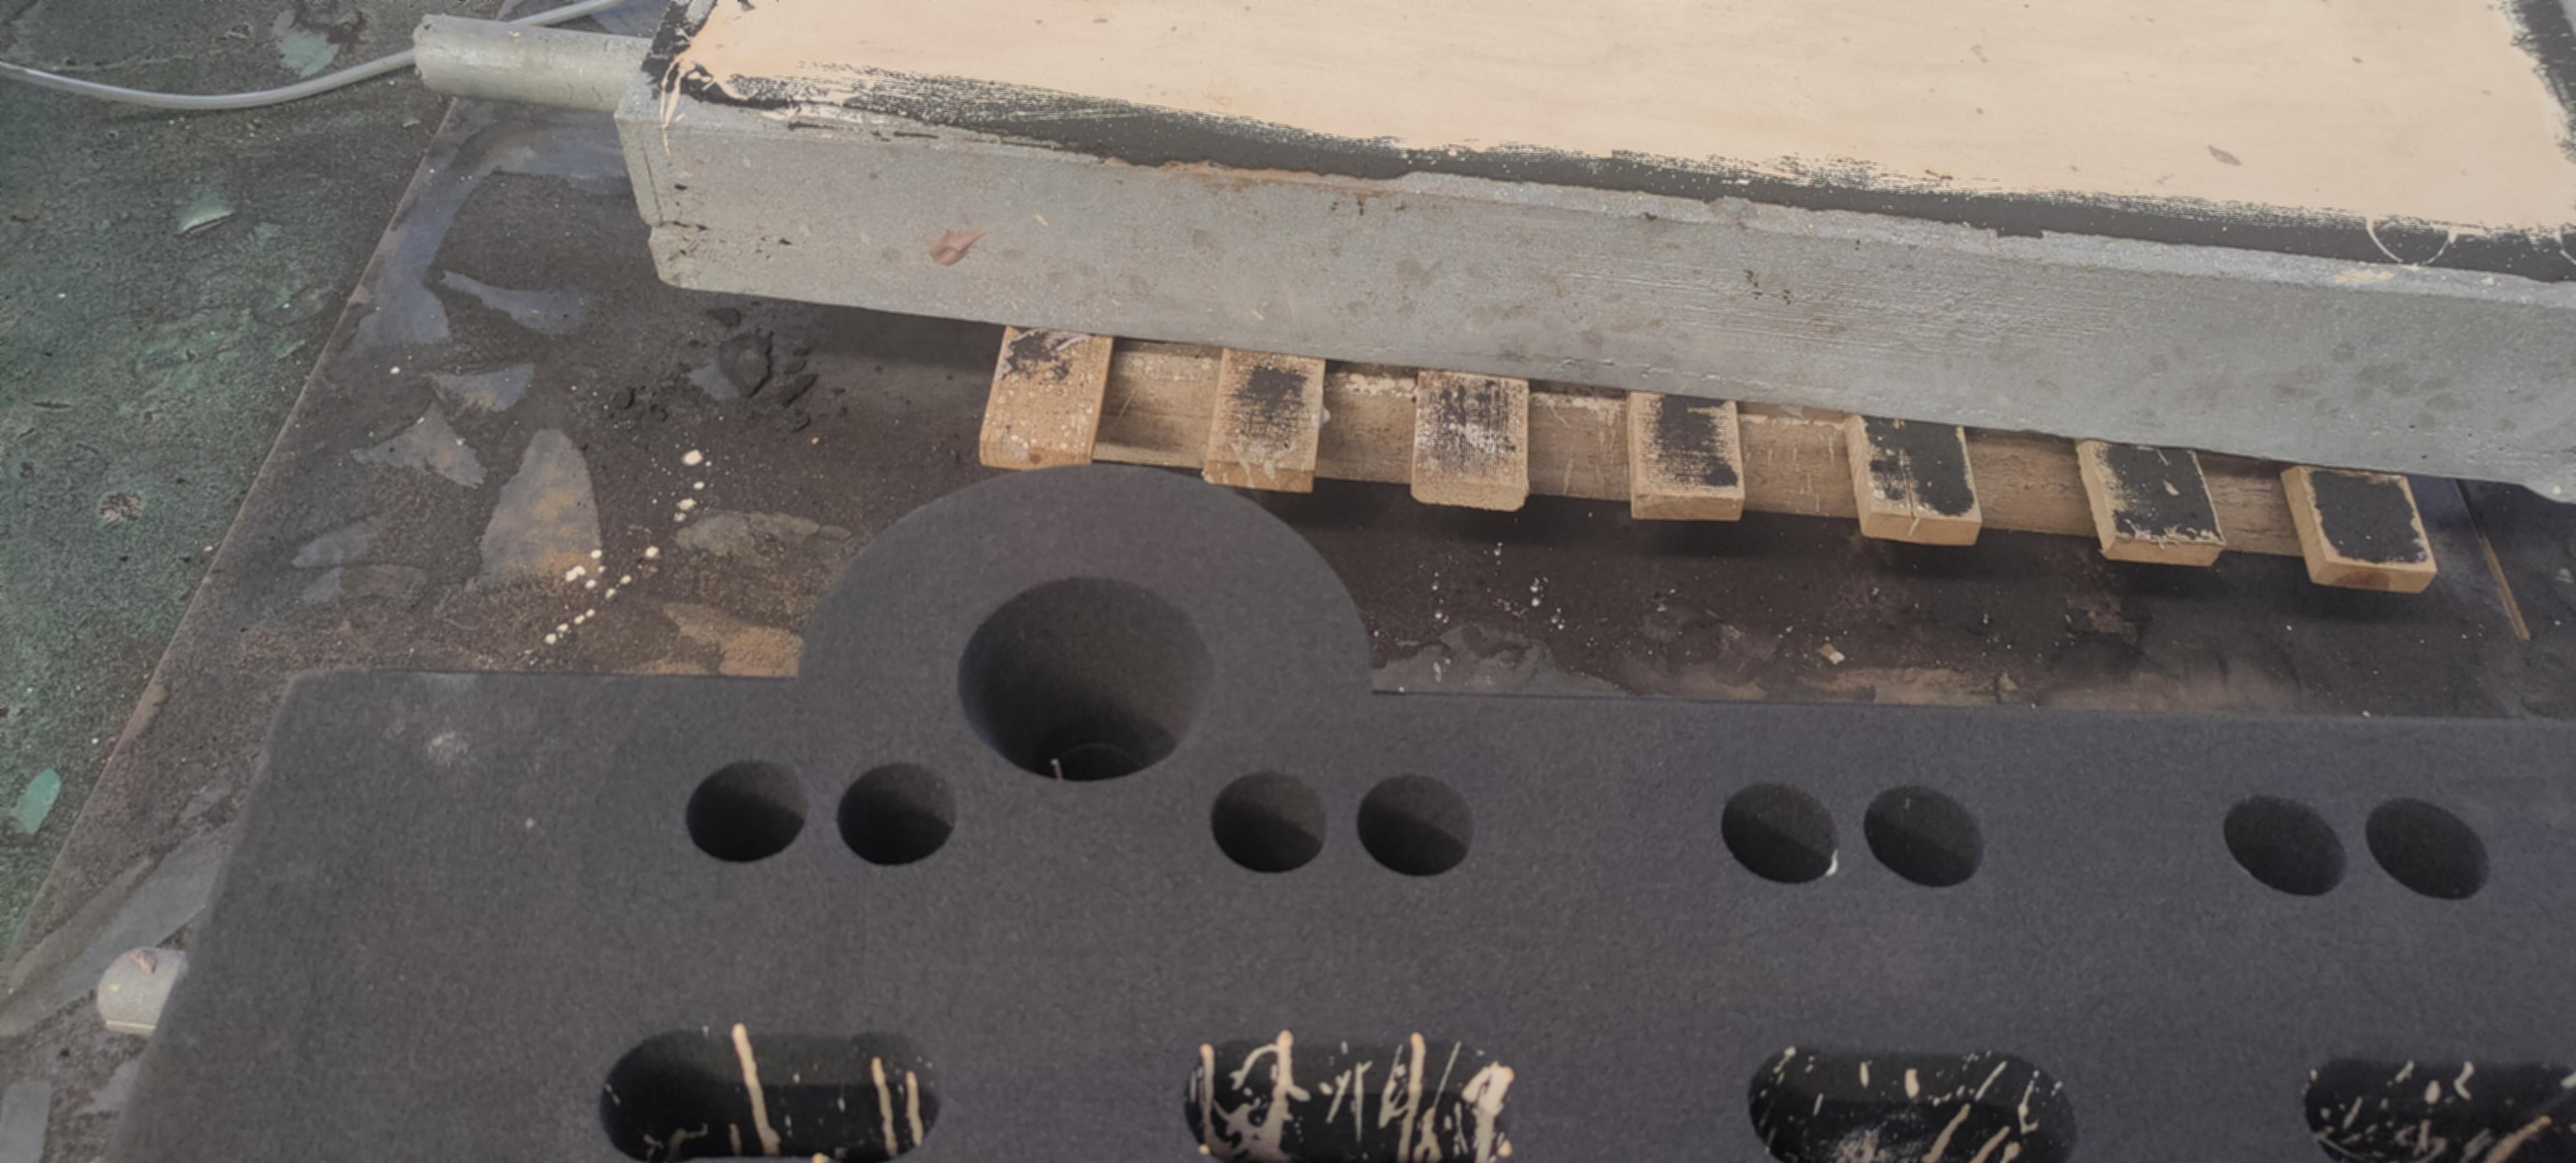pouring hole: (956, 575, 1207, 784)
